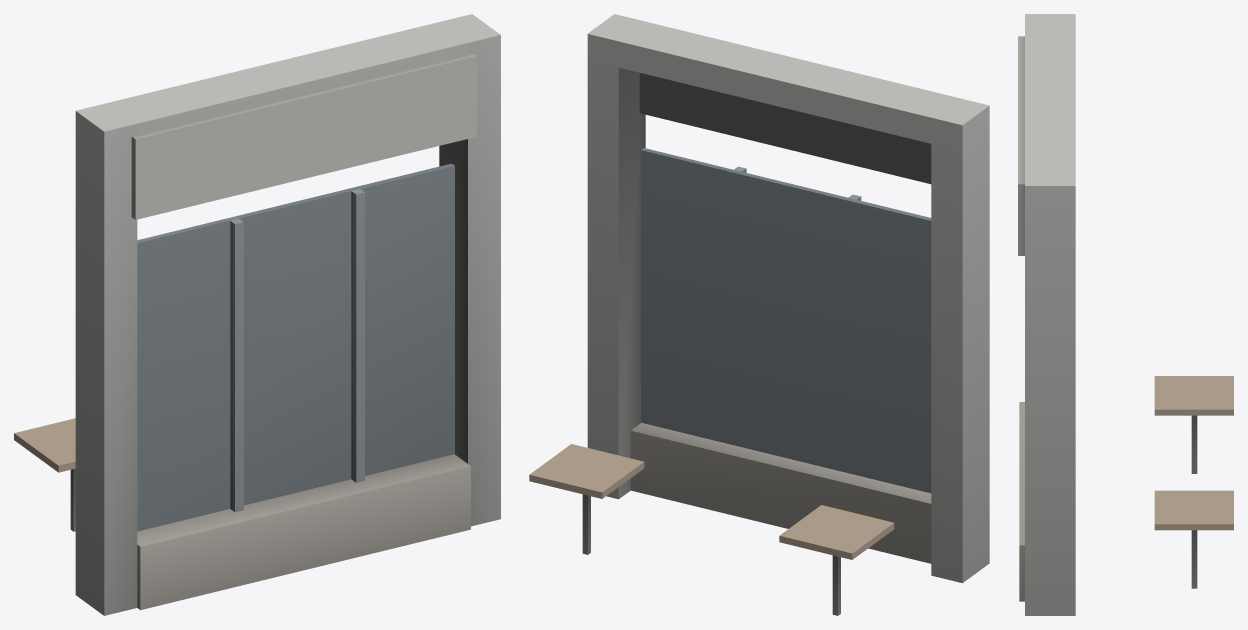
File: ground_cafe.lod1.glb
3 views of the same model, side by side, from view 1: azimuth 30°, elevation 25°; view 2: azimuth 150°, elevation 25°; view 3: azimuth 270°, elevation 25° (orthographic). The views are drawn at different scales.
Parts seen in each view (by area): view 1: facade_ground_cafe.lod1; view 2: facade_ground_cafe.lod1; view 3: facade_ground_cafe.lod1.
Boxes of the visible parts, <box> form: facade_ground_cafe.lod1: <box>14,14,500,615</box>; facade_ground_cafe.lod1: <box>529,14,989,615</box>; facade_ground_cafe.lod1: <box>1018,14,1233,615</box>.
Bounding box in the file's own units: 3.6 × 4.2 × 1.91.
